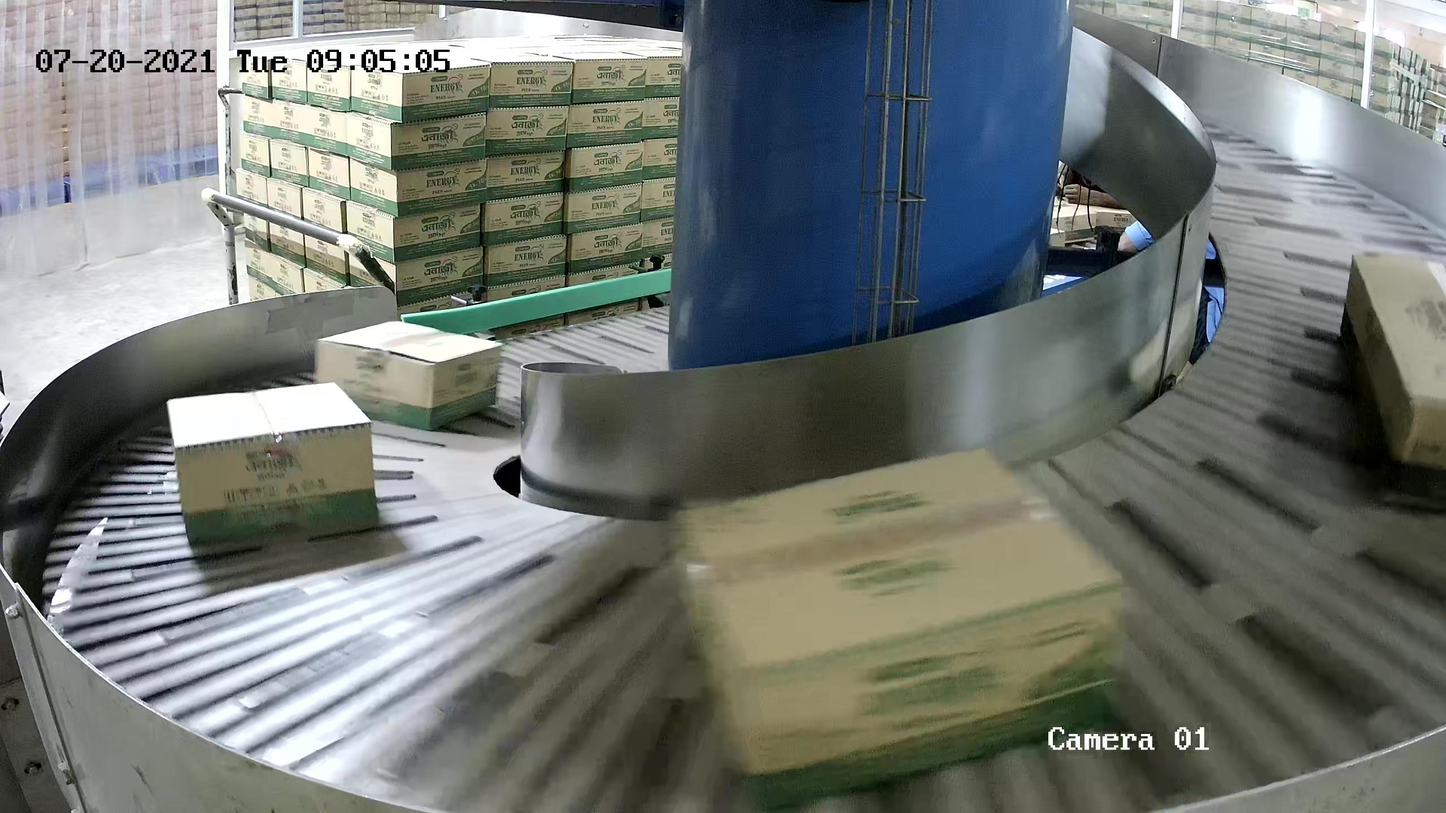Box: (661, 444, 1134, 813), (166, 381, 379, 542), (1340, 251, 1446, 510), (313, 320, 504, 432)
